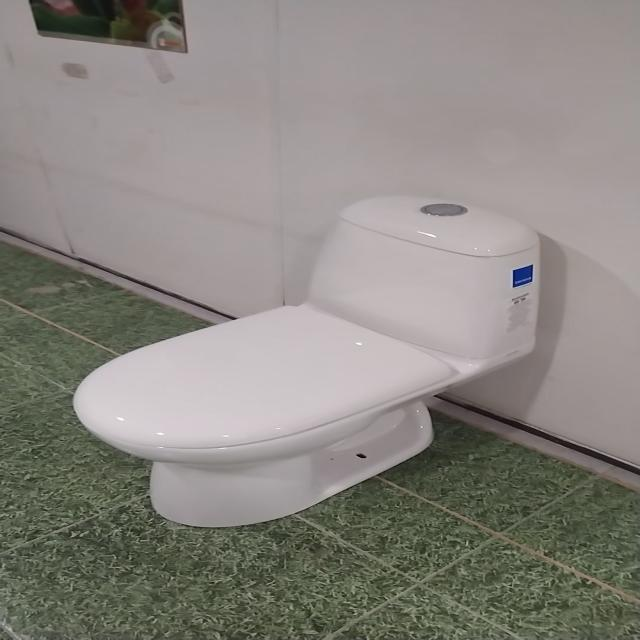toilet: (71, 194, 542, 528)
